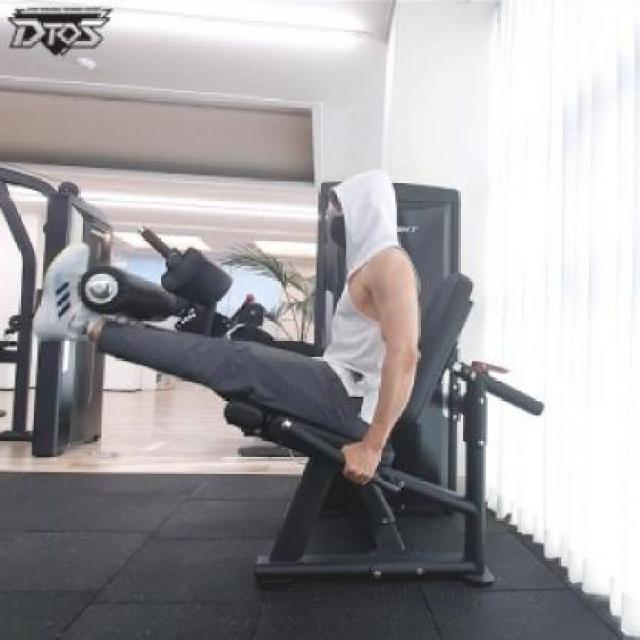leg extension: (16, 143, 558, 606)
